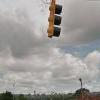Traffic light: (40, 2, 71, 38)
